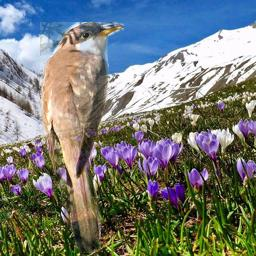Cuckoo: (40, 22, 124, 253)
